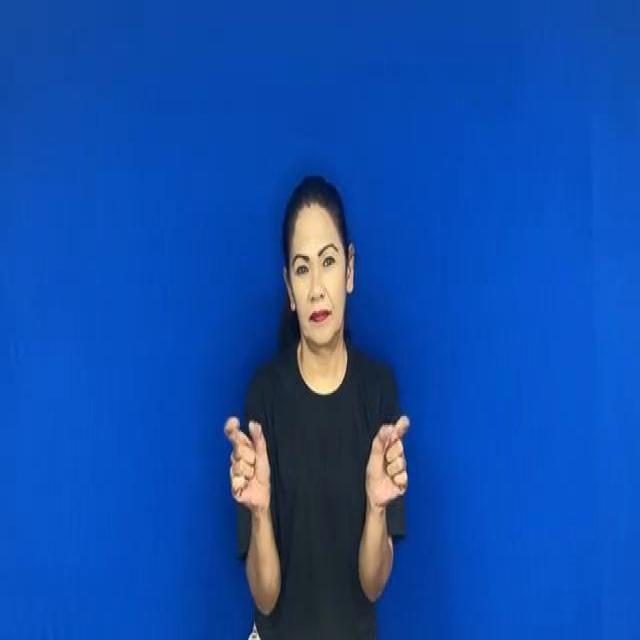crab: (214, 397, 424, 528)
